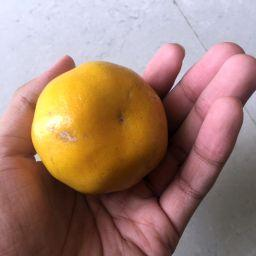Ripe: (35, 61, 166, 189)
